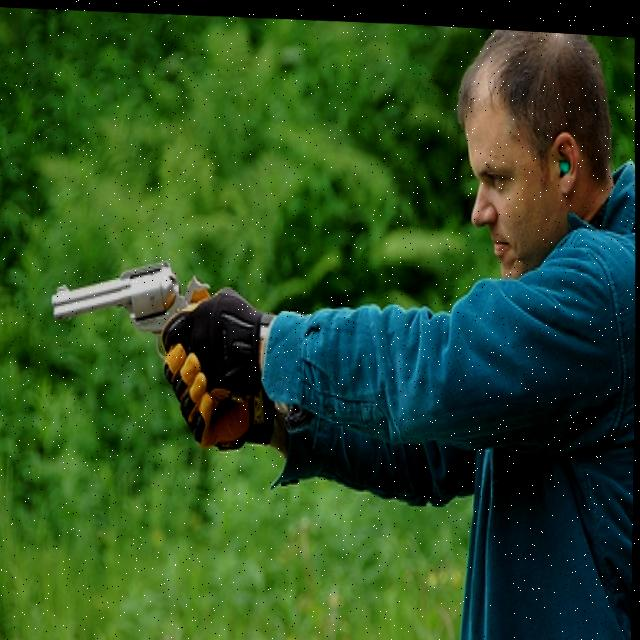pistol: (49, 250, 213, 363)
